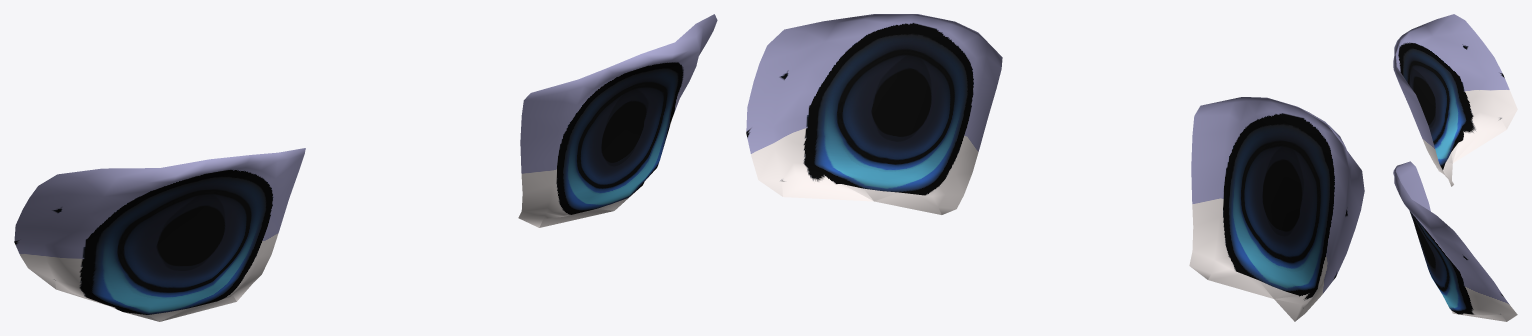
Rendered from eyes blue 1.fbx.
The picture shows the model from 3 angles, left to right: view 1: azimuth 30°, elevation 25°; view 2: azimuth 150°, elevation 25°; view 3: azimuth 270°, elevation 25°; orthographic projection. The views are drawn at different scales.
Parts seen in each view (by area): view 1: カスタム少女_mesh; view 2: カスタム少女_mesh; view 3: カスタム少女_mesh.
Part boxes in pixels (x1=…): カスタム少女_mesh: x1=14, y1=14, x2=717, y2=321; カスタム少女_mesh: x1=746, y1=14, x2=1364, y2=321; カスタム少女_mesh: x1=1393, y1=14, x2=1517, y2=321.
Size of the model in its own units: 183 by 47.96 by 42.61.
Materials: 1 (1 with a texture image).
